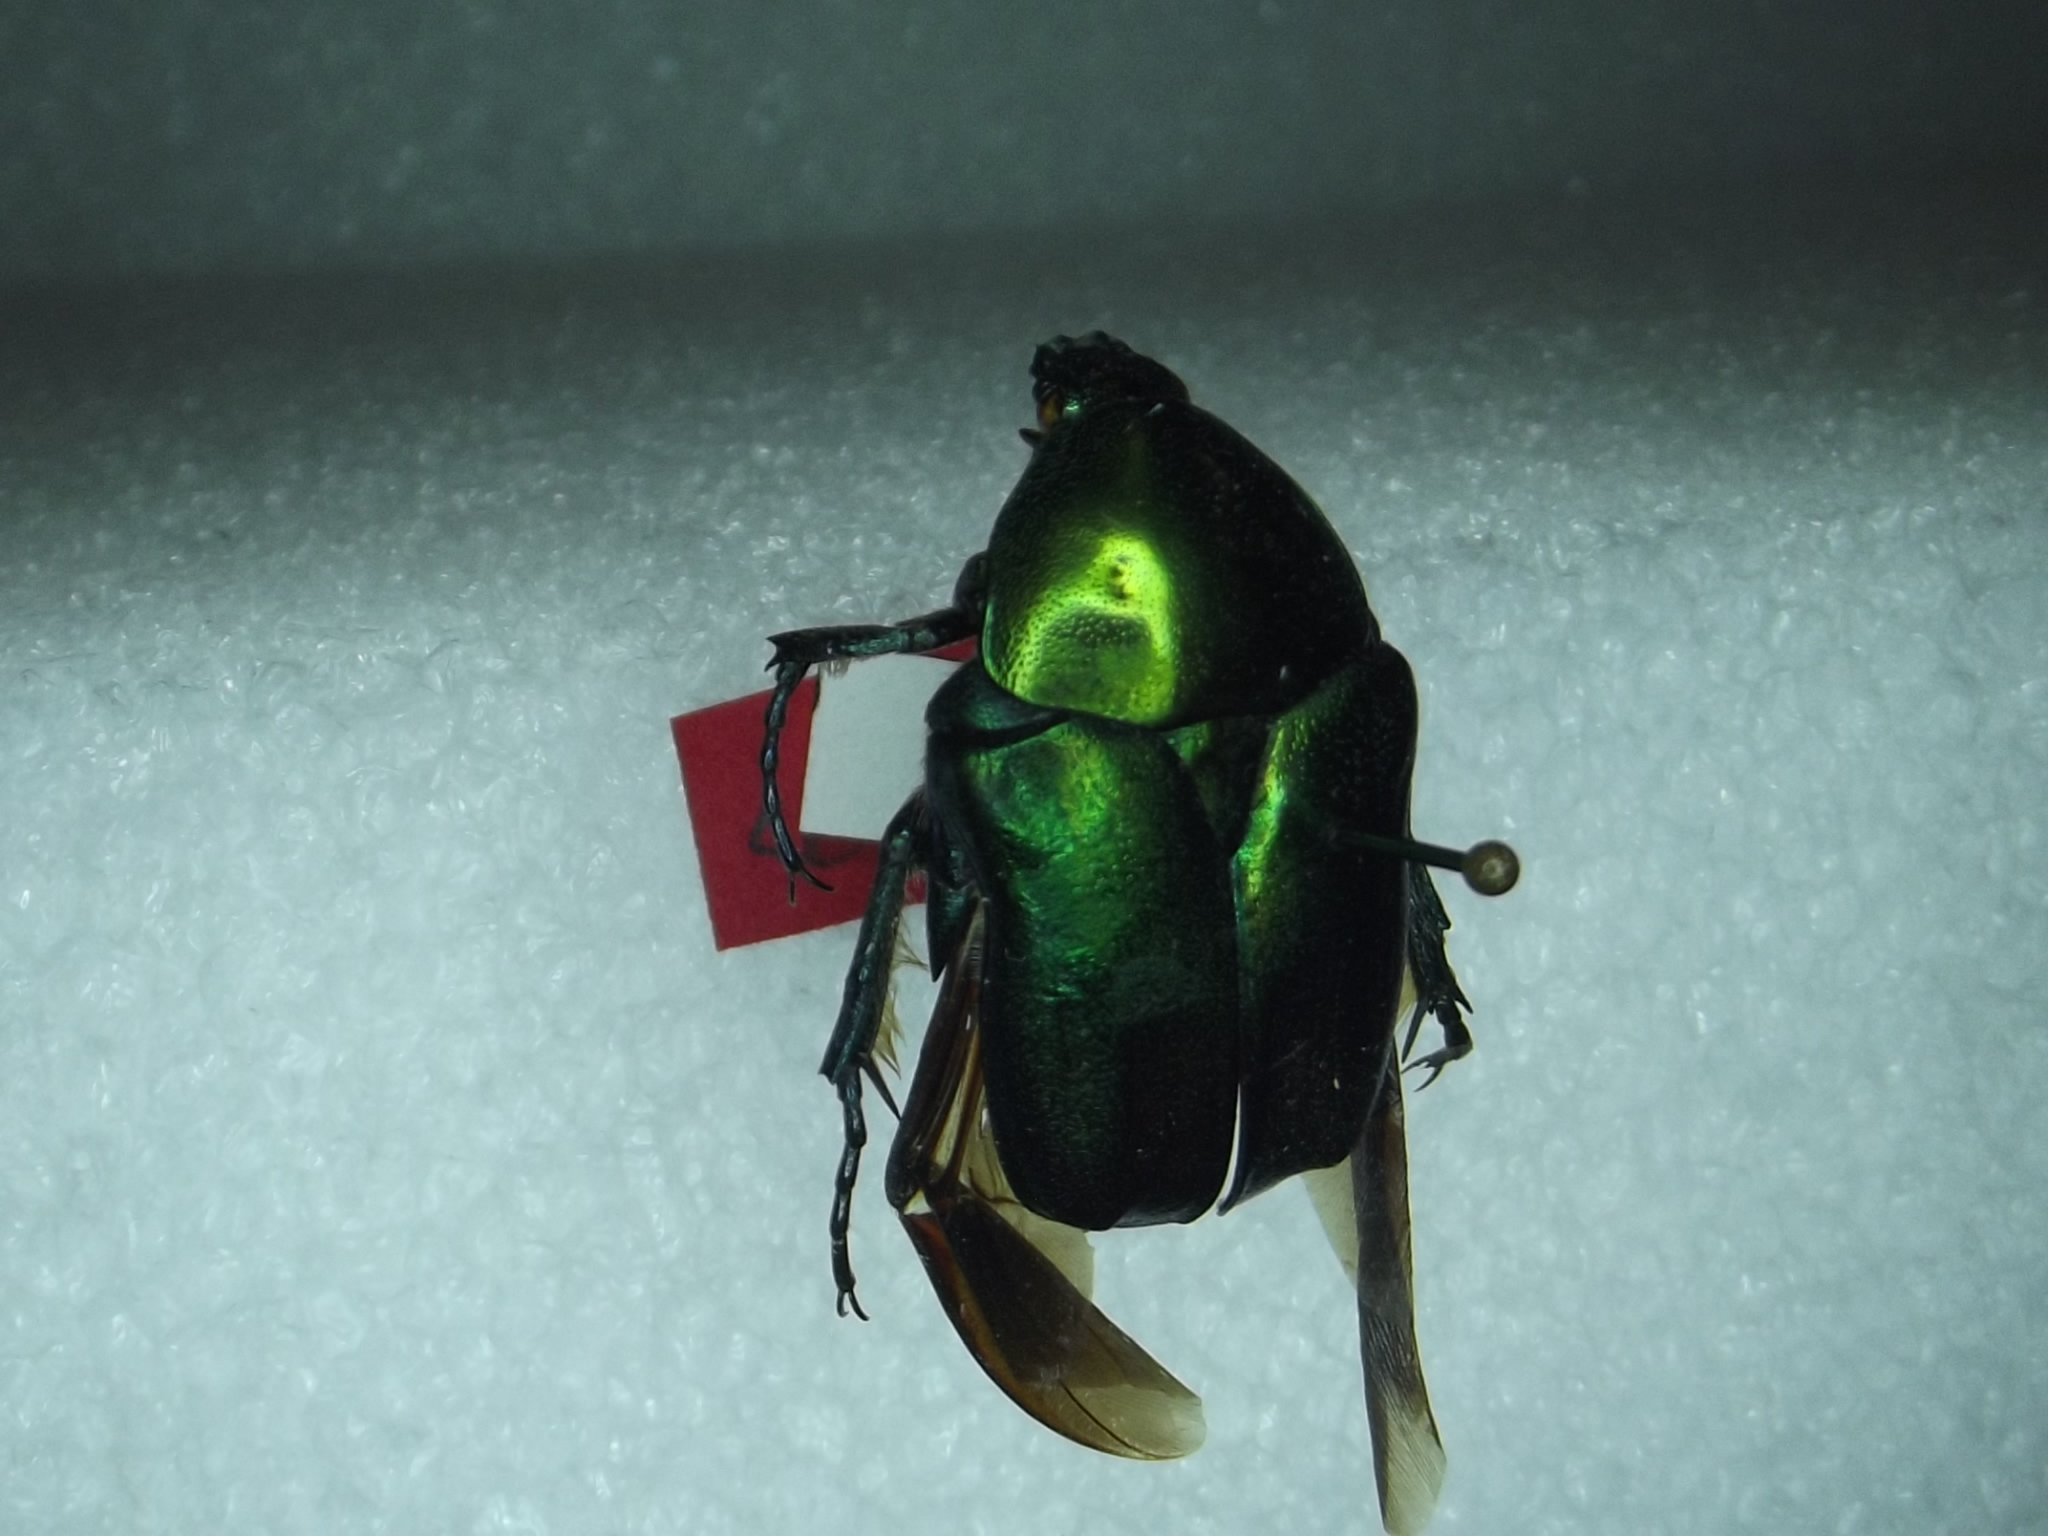Protaetia_besucheti: (753, 290, 1513, 1536)
